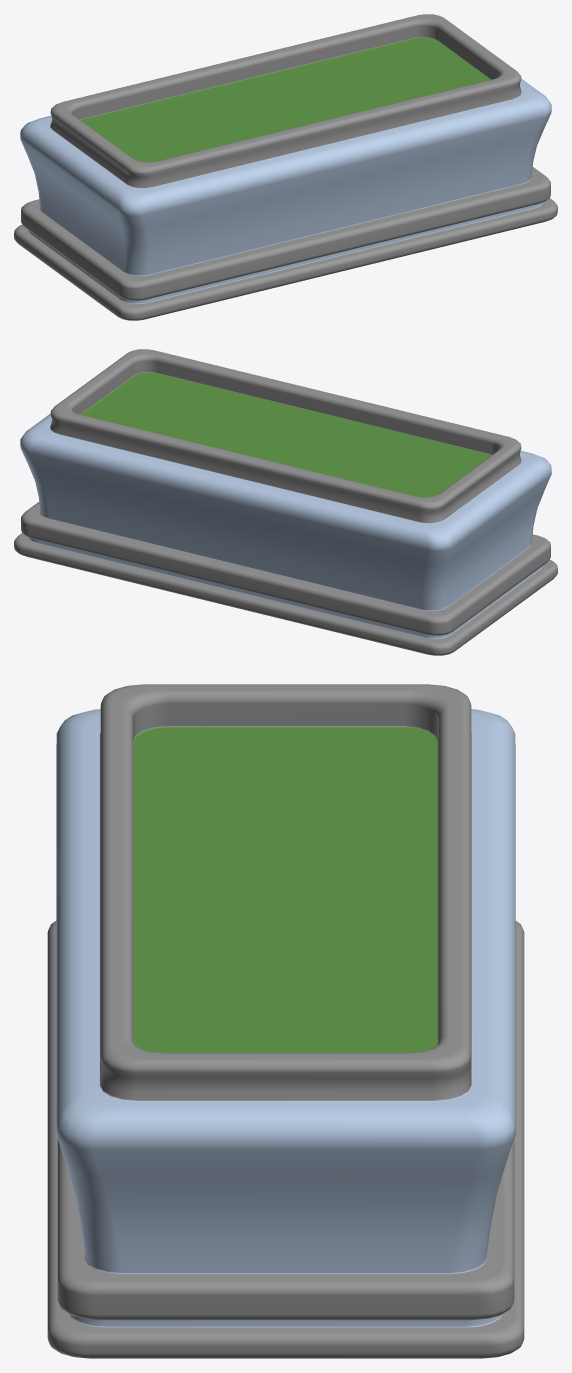
Rendered from SM_Building_05_Part_05.fbx.
3 views of the same model, one above another, from view 1: azimuth 30°, elevation 25°; view 2: azimuth 150°, elevation 25°; view 3: azimuth 270°, elevation 25° (orthographic). The views are drawn at different scales.
Parts seen in each view (by area): view 1: SM_Building_05_Part_05; view 2: SM_Building_05_Part_05; view 3: SM_Building_05_Part_05.
Boxes of the visible parts, x1,y1,x2,y2 form: SM_Building_05_Part_05: (14,14,557,320); SM_Building_05_Part_05: (14,349,557,655); SM_Building_05_Part_05: (47,684,524,1358).
Size of the model in its own units: 4056 by 1220 by 1912.
